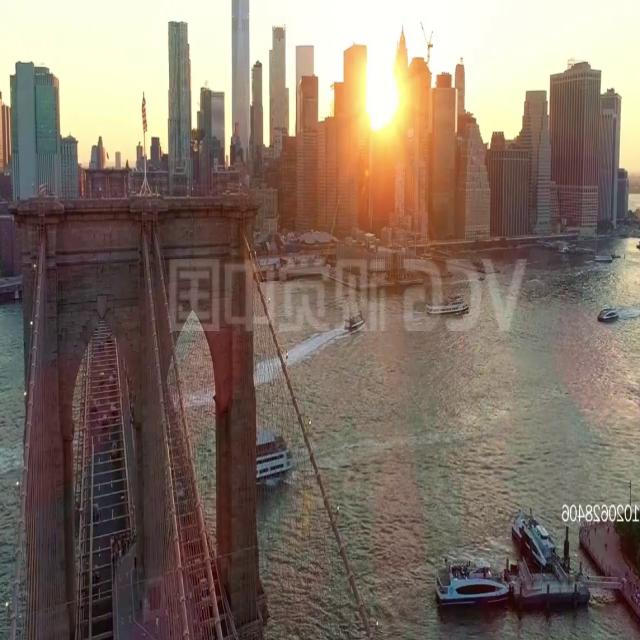houseboat: (434, 561, 510, 603), (510, 498, 554, 564), (597, 304, 623, 333), (344, 313, 364, 333), (592, 251, 613, 264)
passenger ship: (256, 426, 312, 483), (421, 288, 470, 315)
